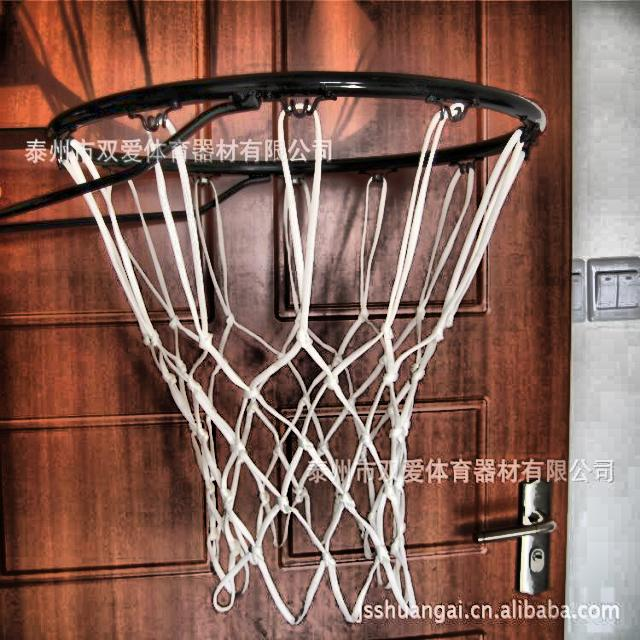rim: (55, 70, 547, 625)
